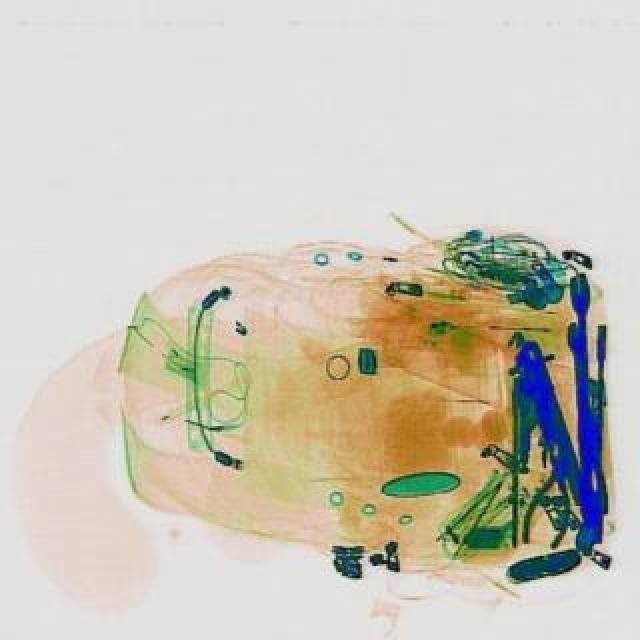wrench: (516, 438, 588, 550)
